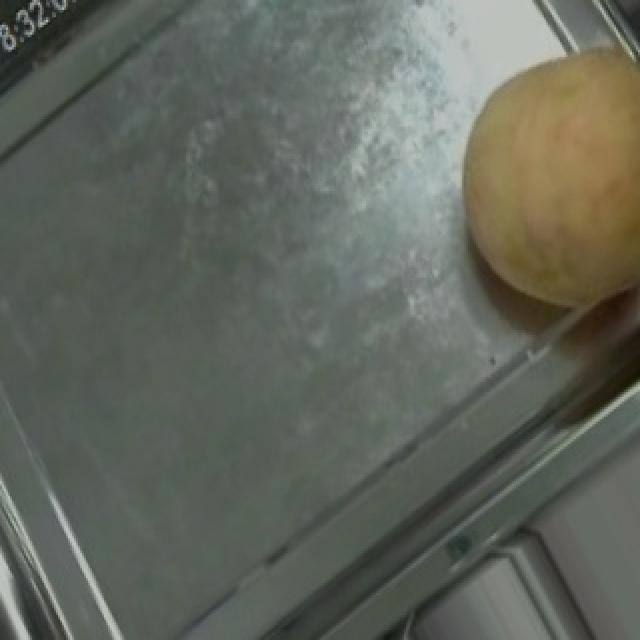Fruit: (416, 7, 640, 345)
